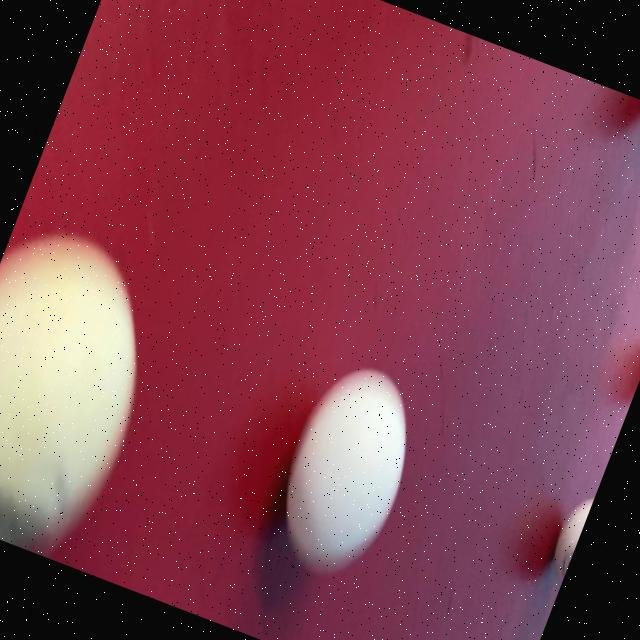ping-pong-ball: (0, 168, 227, 578), (227, 321, 456, 628), (528, 459, 606, 606)
